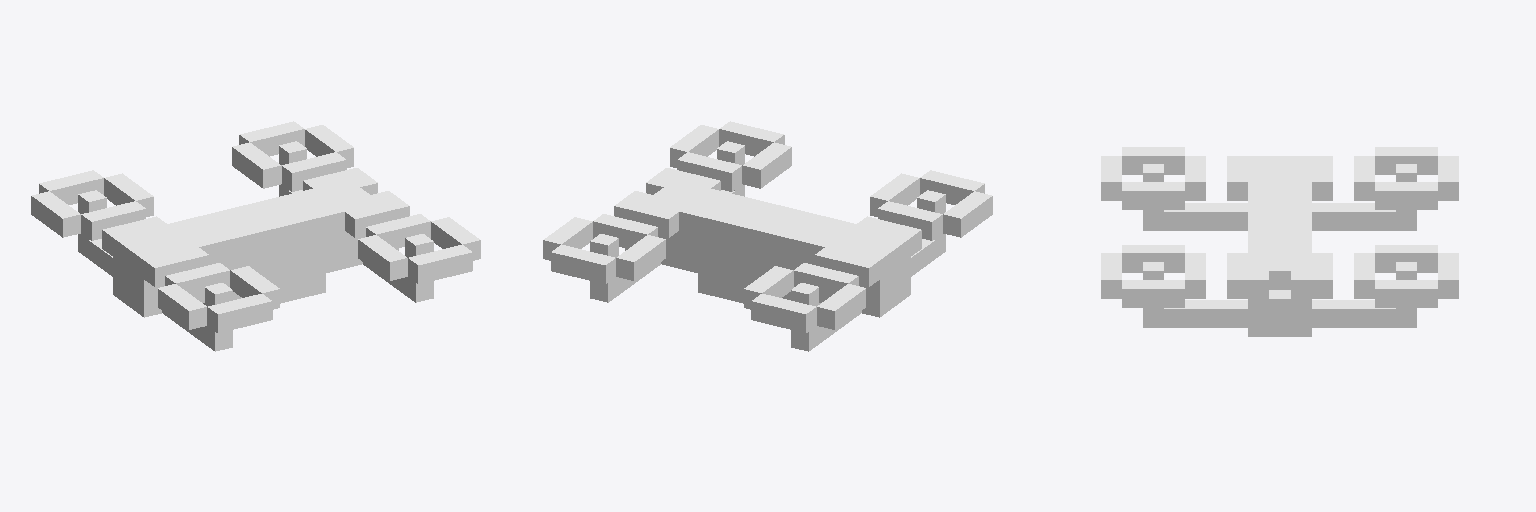
File: DroneRedBlue.obj
The picture shows the model from 3 angles: view 1: azimuth 30°, elevation 25°; view 2: azimuth 150°, elevation 25°; view 3: azimuth 270°, elevation 25°; orthographic projection.
Parts seen in each view (by area): view 1: DroneRedBlue; view 2: DroneRedBlue; view 3: DroneRedBlue.
Boxes of the visible parts, <box> form: DroneRedBlue: <box>31,121,480,351</box>; DroneRedBlue: <box>543,121,992,351</box>; DroneRedBlue: <box>1101,147,1458,336</box>.
Bounding box in the file's own units: 16 × 4 × 17.